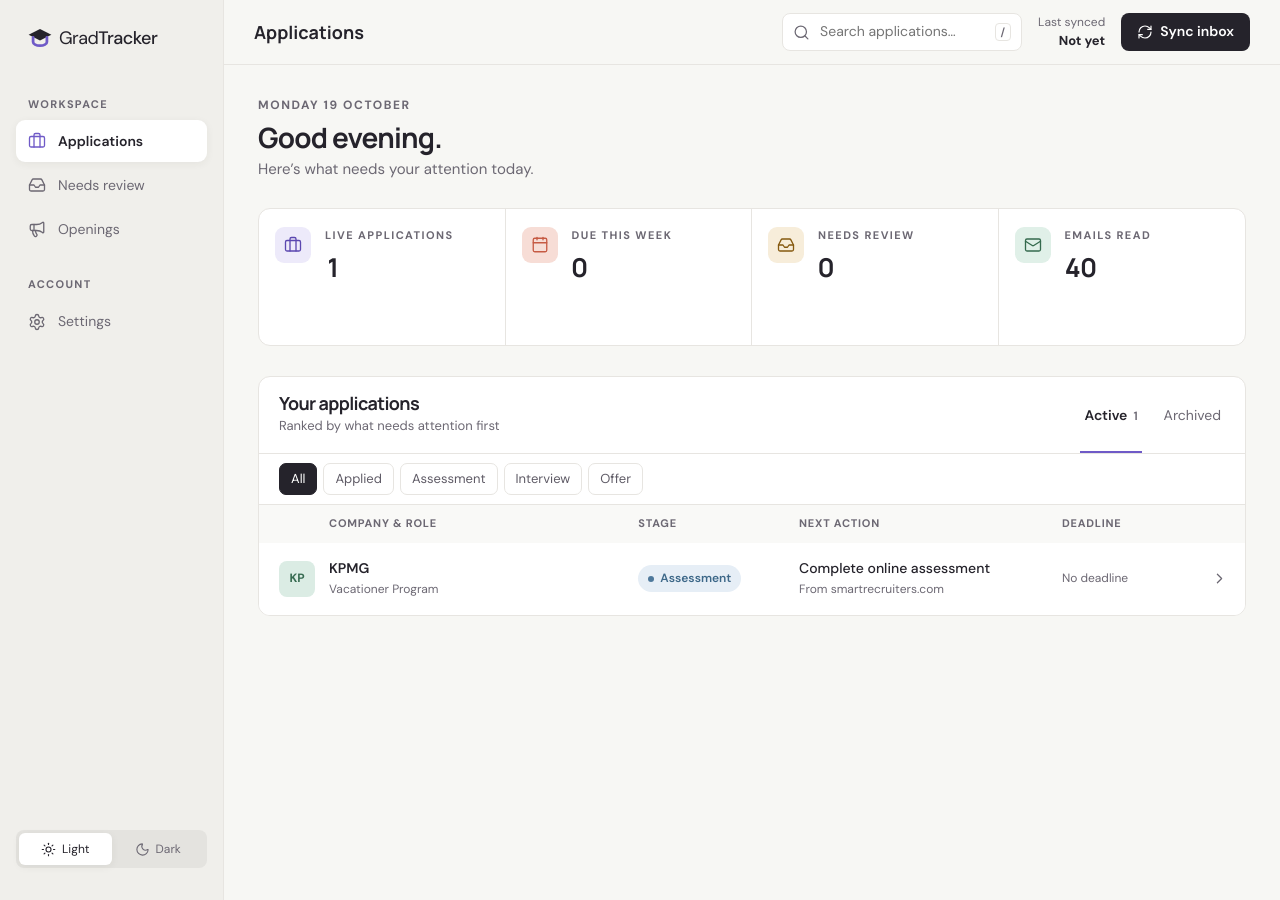
Scenario: offline (T5.7, app-flow.md §7) › Try again re-reads what failed, and the banner goes once it succeeds
Expected: the text "KPMG" is shown, 329,559 -> 369,577
Step 1. Click the button "Sync inbox" → [1186, 32], box 1121,13 -> 1250,51
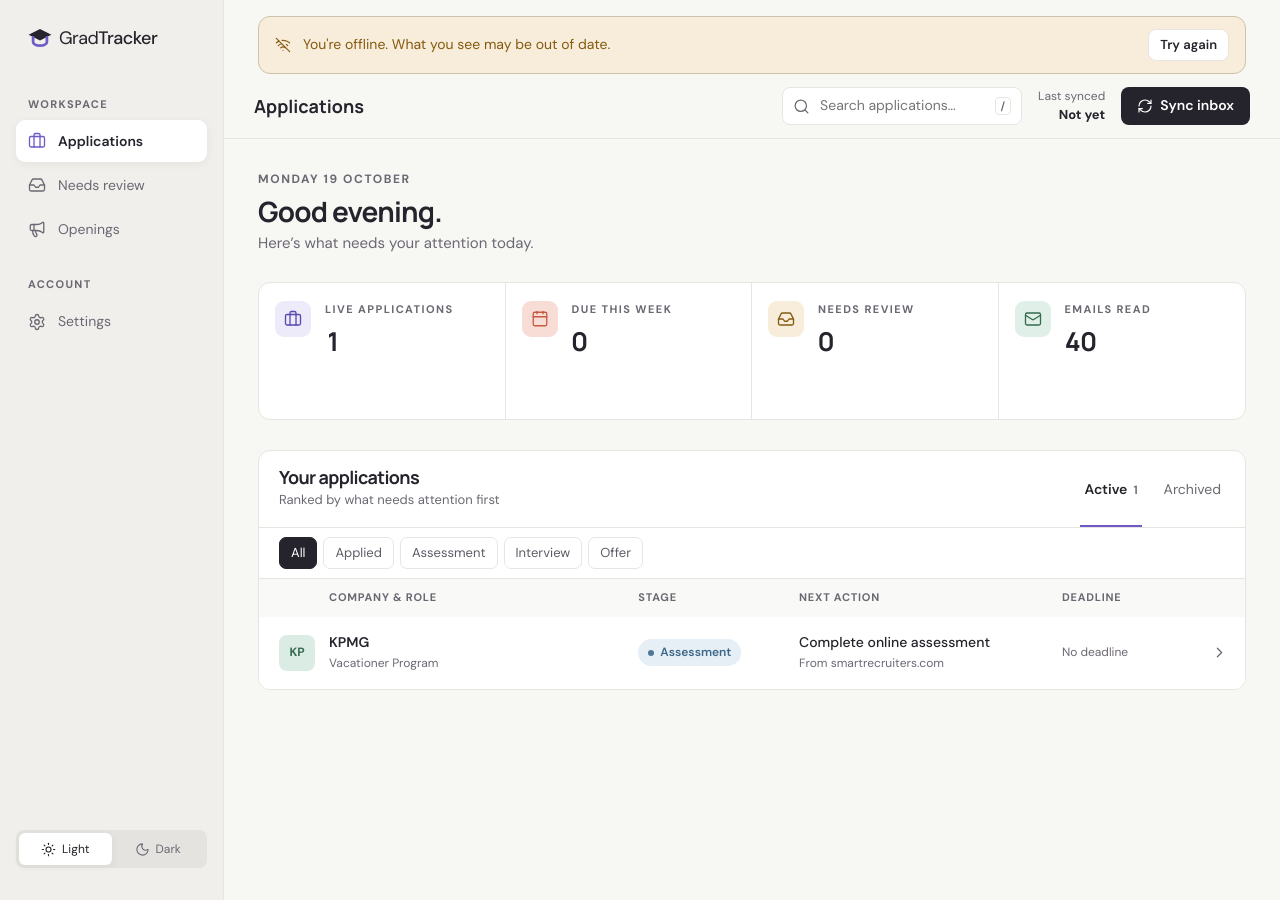
Expected: the text "You're offline. What you see may be out of date." is shown, 303,35 -> 610,53
Step 2. Click the button "Try again" → [1189, 45], box 1148,29 -> 1229,61
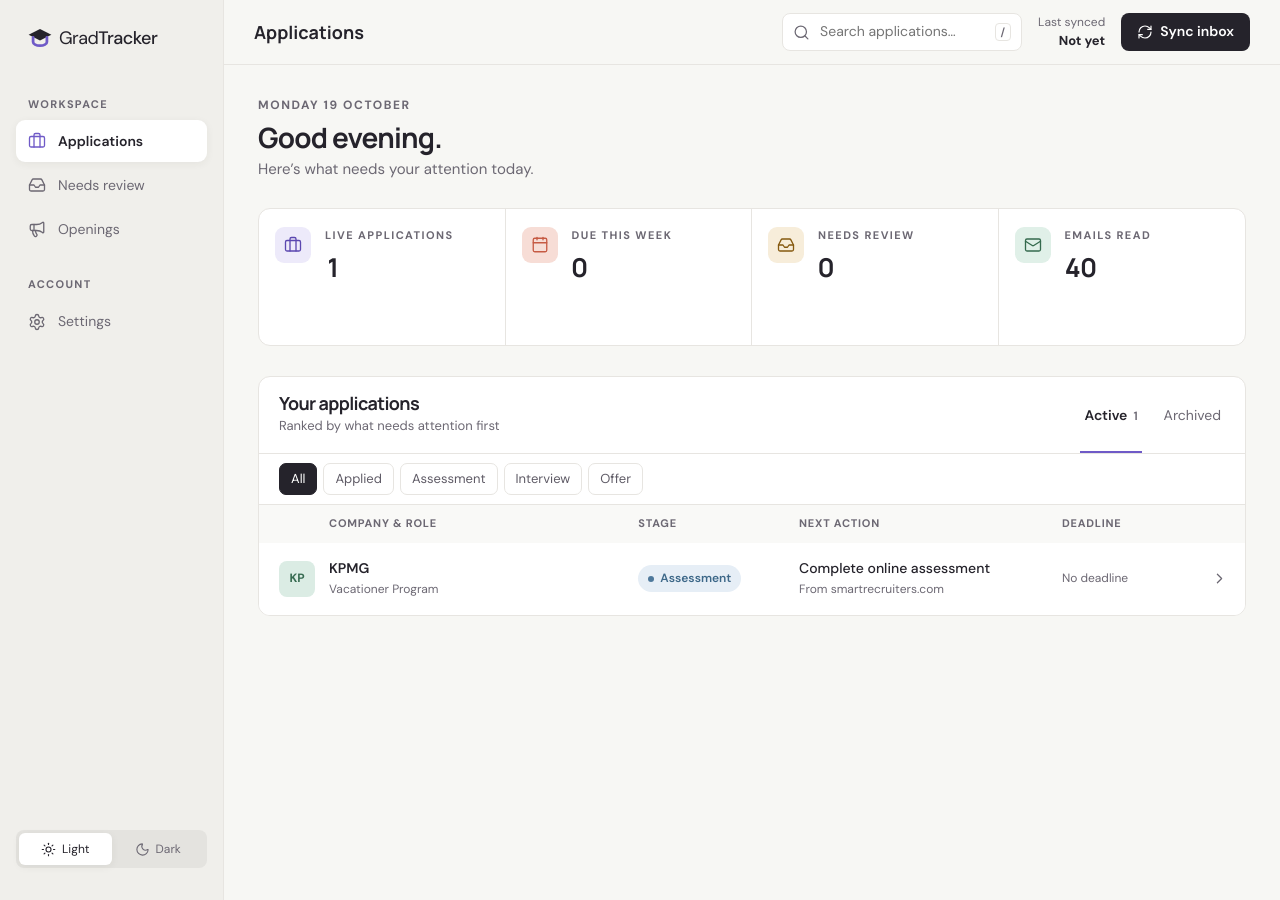
Expected: the text "You're offline" is gone
